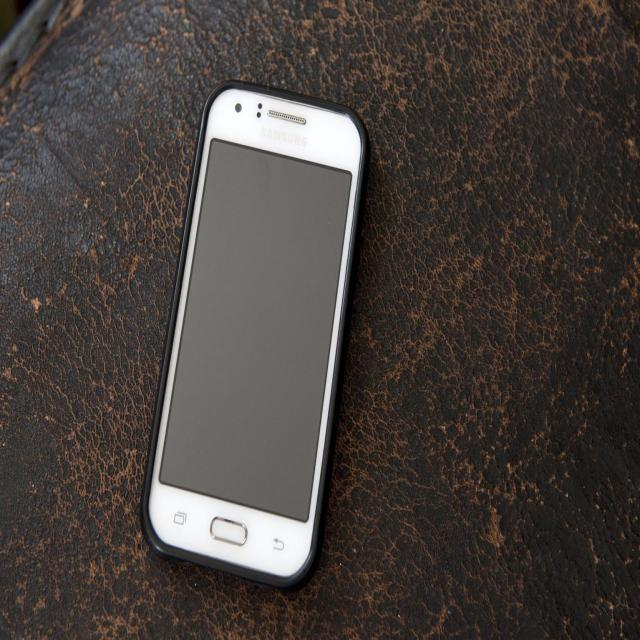Phone: (139, 82, 371, 589)
